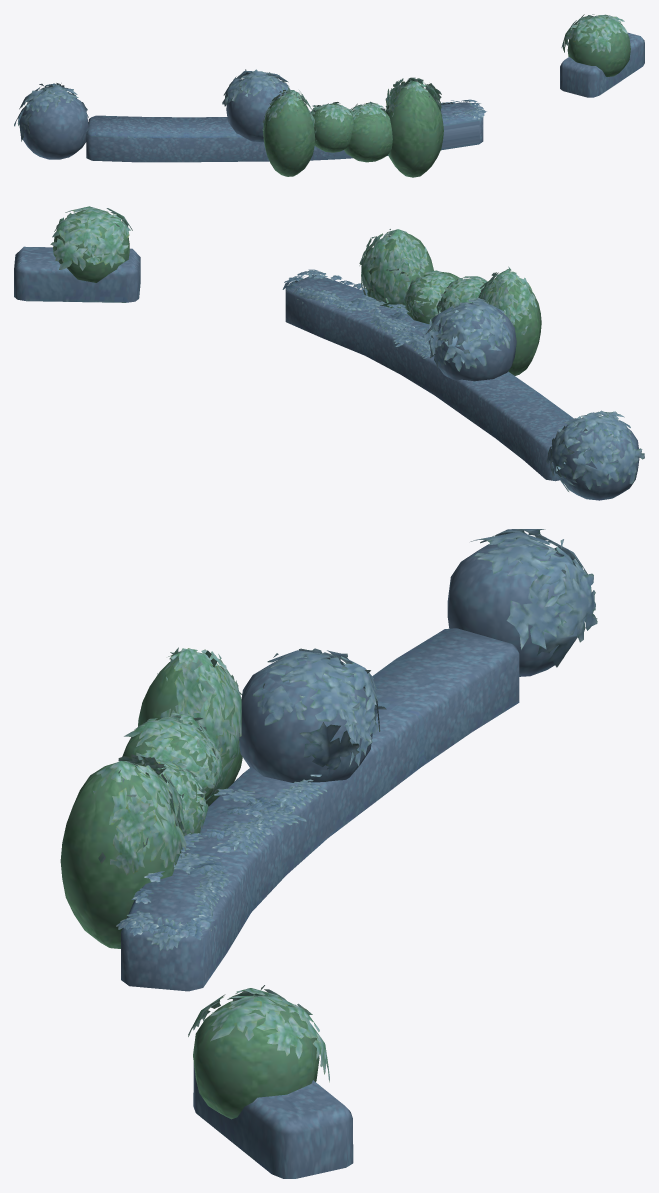
File: pref_sm_beach_bk_winter_pointmol_longplant_R03_lv1.fbx
3 renders of one model, top to bottom at view 1: azimuth 30°, elevation 25°; view 2: azimuth 150°, elevation 25°; view 3: azimuth 270°, elevation 25°, orthographic. The views are drawn at different scales.
Visible parts, largest first — view 1: pref_sm_beach_bk_winter_pointmol_longplant_R03_lv1; view 2: pref_sm_beach_bk_winter_pointmol_longplant_R03_lv1; view 3: pref_sm_beach_bk_winter_pointmol_longplant_R03_lv1.
Boxes of the visible parts, box(x1,y1,x2,y2) form: pref_sm_beach_bk_winter_pointmol_longplant_R03_lv1: box(14, 14, 644, 177); pref_sm_beach_bk_winter_pointmol_longplant_R03_lv1: box(14, 206, 644, 500); pref_sm_beach_bk_winter_pointmol_longplant_R03_lv1: box(60, 529, 597, 1178).
Bounding box in the file's own units: 29.84 × 5.12 × 12.32.
